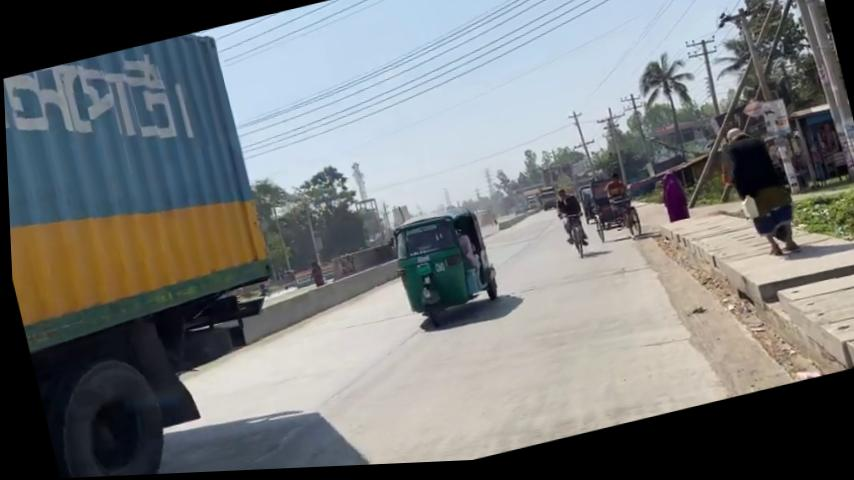Fence: (710, 124, 802, 271), (549, 190, 587, 256), (596, 176, 632, 234)
Garbage: (765, 0, 854, 198)
Railroad-crossing: (697, 0, 823, 132), (629, 51, 710, 173)
Rickshaw: (1, 25, 318, 480), (380, 203, 502, 336)
